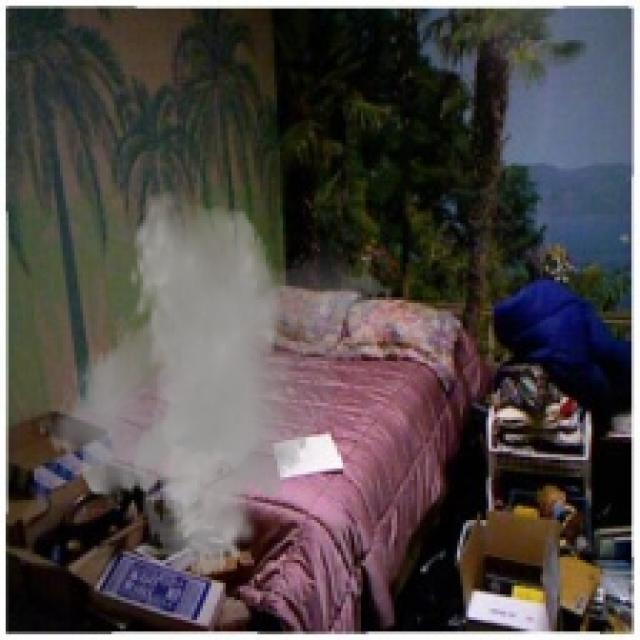smoke: (37, 189, 394, 577)
